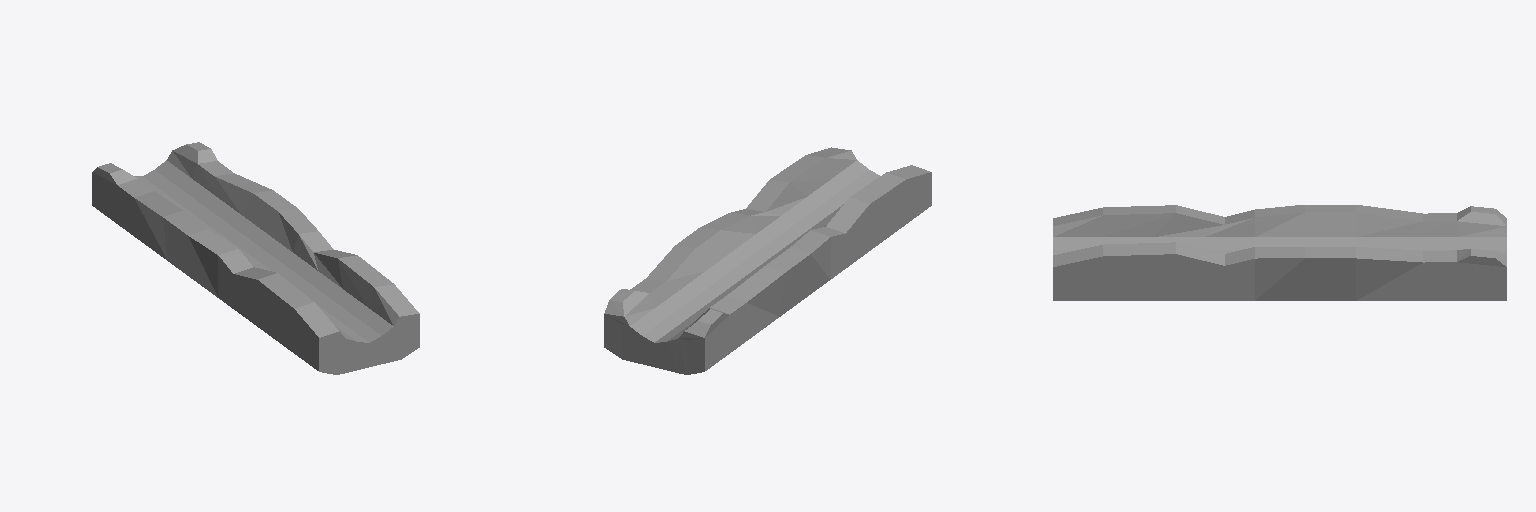
The model's file is asset.obj.
The picture shows the model from 3 angles: view 1: azimuth 30°, elevation 25°; view 2: azimuth 150°, elevation 25°; view 3: azimuth 270°, elevation 25°; orthographic projection.
Parts seen in each view (by area): view 1: Cube.001; view 2: Cube.001; view 3: Cube.001.
Boxes of the visible parts, box(x1,y1,x2,y2) form: Cube.001: box(92, 142, 419, 374); Cube.001: box(604, 147, 931, 374); Cube.001: box(1053, 205, 1506, 300).
Bounding box in the file's own units: 3.4 × 1.66 × 12.11.